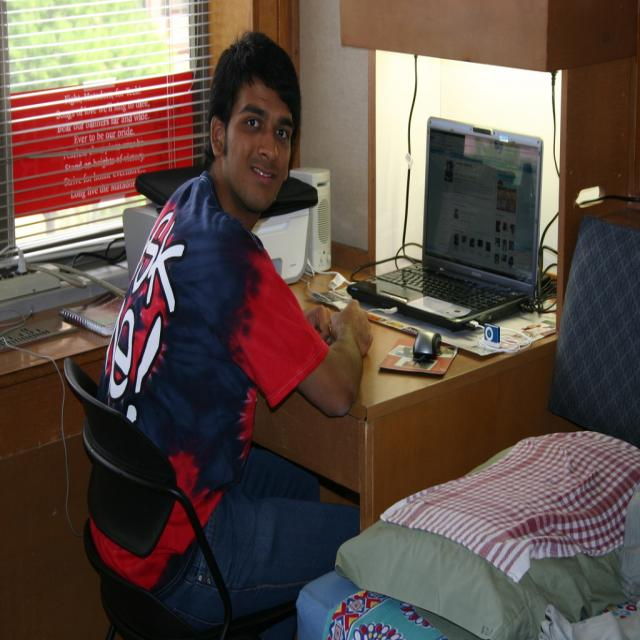chair: (63, 352, 303, 632), (122, 206, 158, 282)
desk: (88, 204, 584, 612)
laptop: (346, 114, 544, 332)
mouse: (413, 328, 441, 359)
person: (96, 39, 373, 626)
